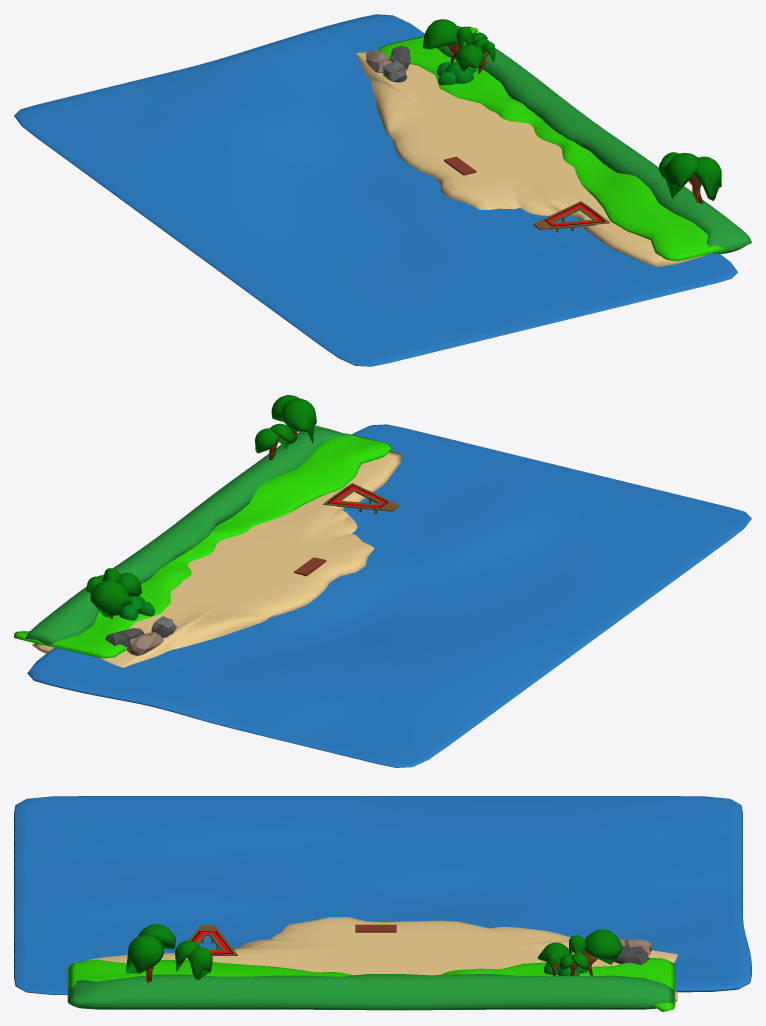
Rendered from fullislandnew.fbx.
3 views of the same model, one above another, from view 1: azimuth 30°, elevation 25°; view 2: azimuth 150°, elevation 25°; view 3: azimuth 270°, elevation 25° (orthographic). The views are drawn at different scales.
Parts seen in each view (by area): view 1: island.001, island, trees, tree2, deck, bush; view 2: island.001, island, trees, tree2, deck, tree1; view 3: island.001, island, trees, tree2, tree1, deck, rock3, brick.
Boxes of the visible parts, left/top/right/bottom form: island.001: left=14, top=14, right=737, bottom=366; island: left=356, top=26, right=751, bottom=266; trees: left=422, top=19, right=495, bottom=73; tree2: left=662, top=153, right=721, bottom=203; deck: left=533, top=201, right=609, bottom=232; bush: left=437, top=62, right=476, bottom=85; island.001: left=27, top=424, right=751, bottom=767; island: left=14, top=425, right=402, bottom=667; trees: left=85, top=568, right=141, bottom=618; tree2: left=271, top=395, right=316, bottom=442; deck: left=323, top=483, right=399, bottom=513; tree1: left=255, top=423, right=297, bottom=460; island.001: left=14, top=796, right=751, bottom=994; island: left=67, top=917, right=677, bottom=1011; trees: left=537, top=929, right=622, bottom=976; tree2: left=126, top=924, right=175, bottom=983; tree1: left=175, top=940, right=212, bottom=980; deck: left=188, top=925, right=237, bottom=955; rock3: left=614, top=945, right=649, bottom=965; brick: left=355, top=924, right=396, bottom=932.
Bounding box in the file's own units: 6923 × 1182 × 9791.
